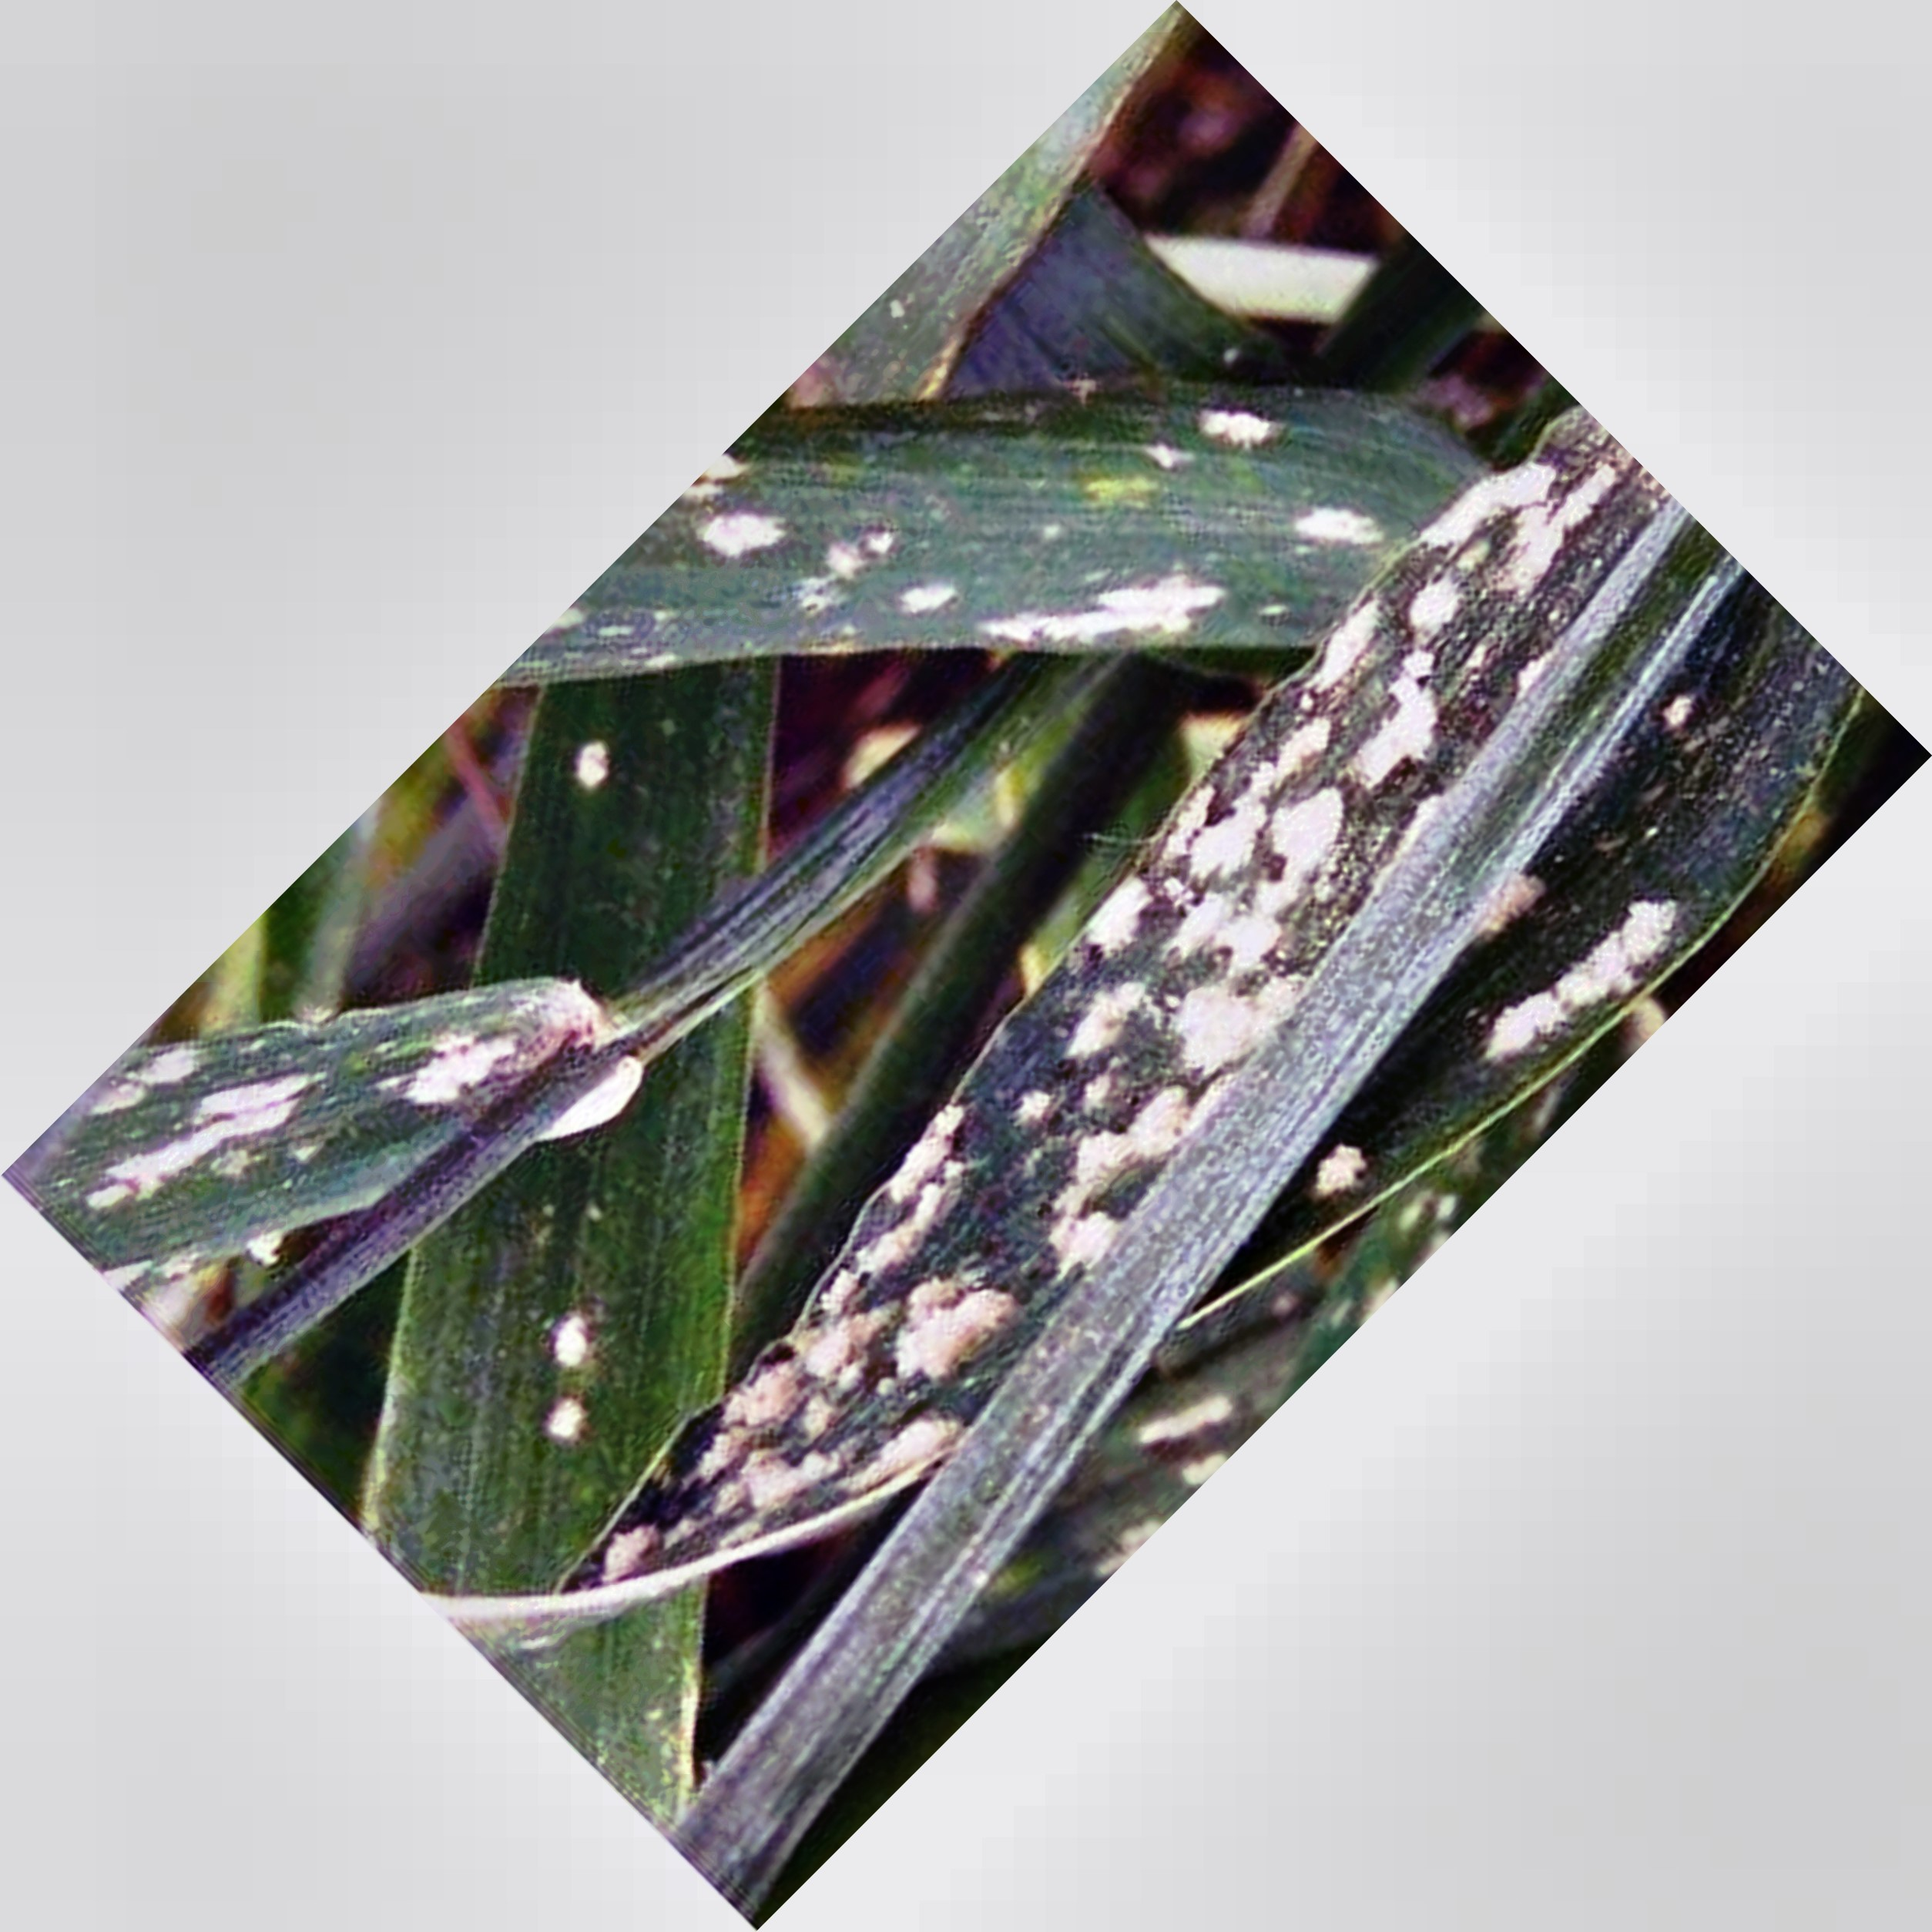Powdery Mildew: (667, 518, 1539, 1518)
